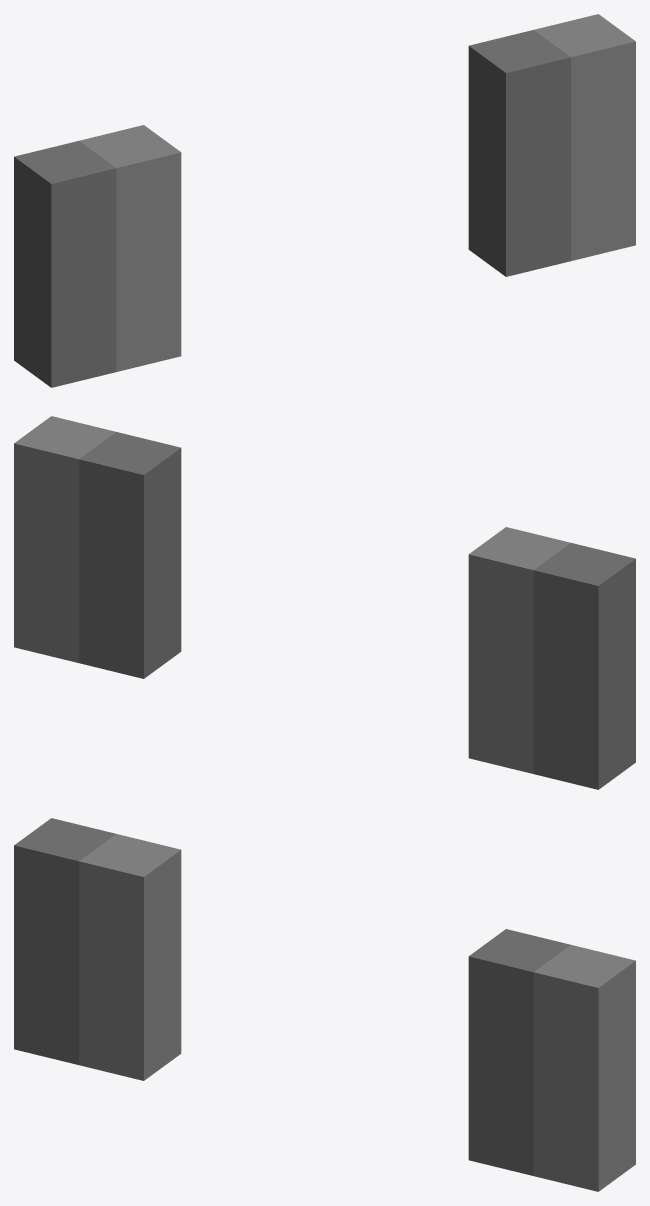
The model's file is seal2-2.obj.
3 views of the same model, one above another, from view 1: azimuth 30°, elevation 25°; view 2: azimuth 150°, elevation 25°; view 3: azimuth 330°, elevation 25° (orthographic).
Bounding box in the file's own units: 0.9 × 0.3 × 0.1.
1 material, 1 textured.
